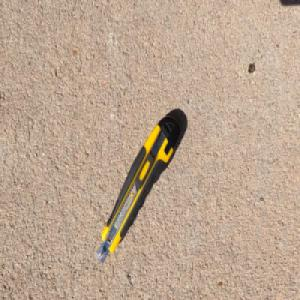Cutter: (95, 110, 182, 264)
